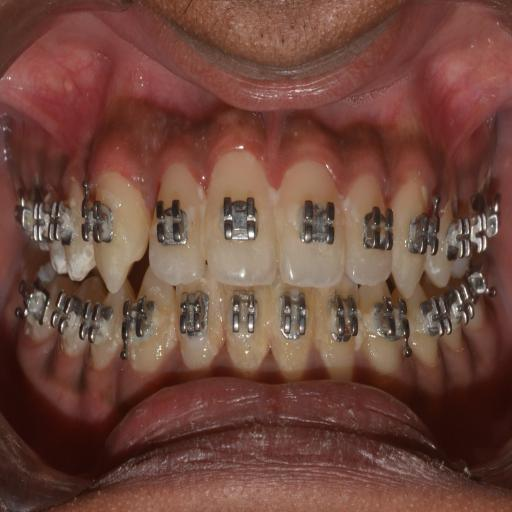correct_brace: (218, 184, 265, 252), (297, 187, 338, 256), (404, 199, 438, 266), (155, 192, 191, 252), (84, 194, 118, 256), (229, 291, 263, 351), (277, 288, 310, 344), (362, 200, 392, 260), (329, 292, 357, 350), (180, 294, 212, 343)
incorrect_brace: (149, 159, 204, 281), (348, 177, 392, 285), (315, 291, 360, 377), (178, 285, 222, 372)
